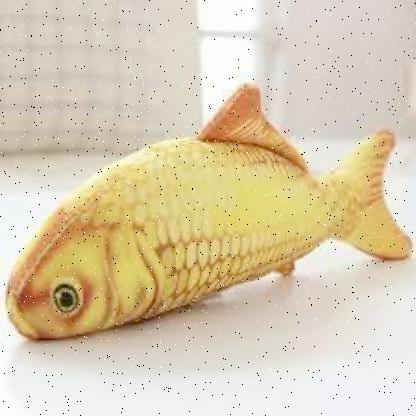ikan-mas: (4, 106, 396, 340)
